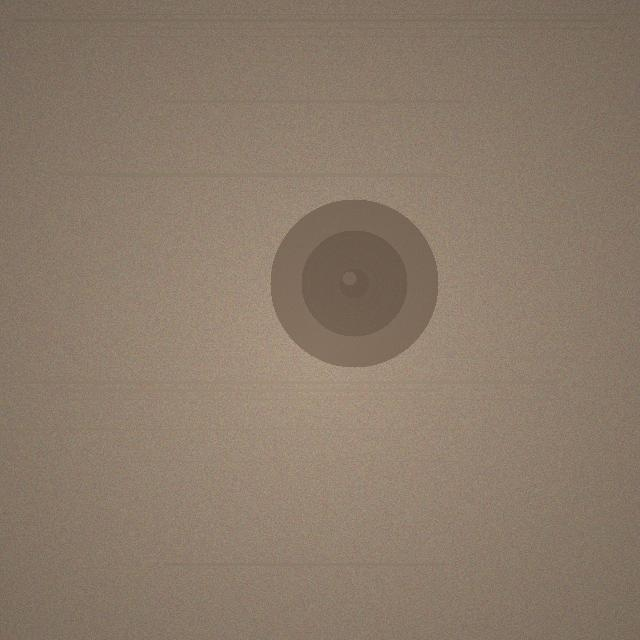good: (270, 199, 438, 367)
